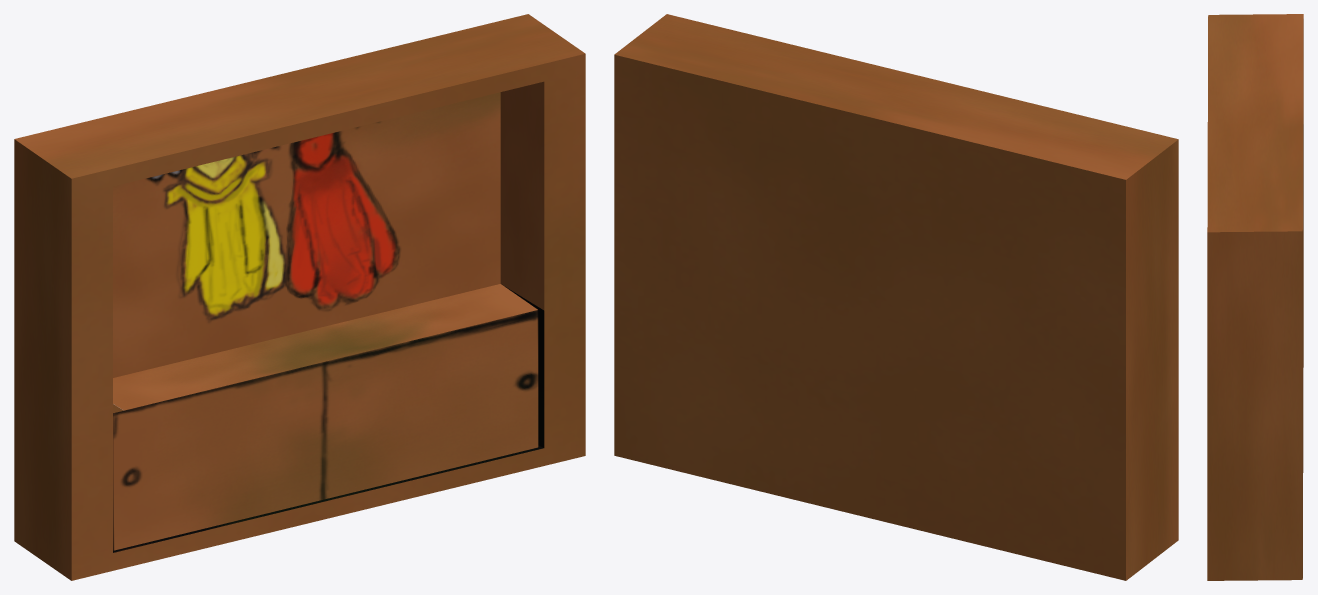
File: coat cabinet.fbx
3 views of the same model, side by side, from view 1: azimuth 30°, elevation 25°; view 2: azimuth 150°, elevation 25°; view 3: azimuth 270°, elevation 25° (orthographic). The views are drawn at different scales.
Visible parts, largest first — view 1: Cube.005; view 2: Cube.005; view 3: Cube.005.
Part boxes in pixels (<box>): Cube.005: <box>14,14,585,580</box>; Cube.005: <box>614,14,1178,580</box>; Cube.005: <box>1207,14,1303,580</box>.
Bounding box in the file's own units: 346 × 258 × 64.4.
